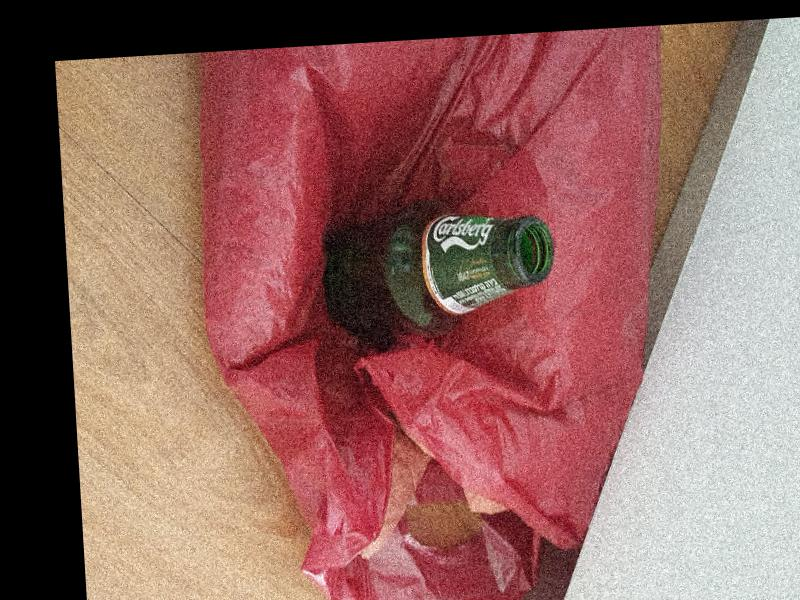Beer: (318, 195, 555, 342)
